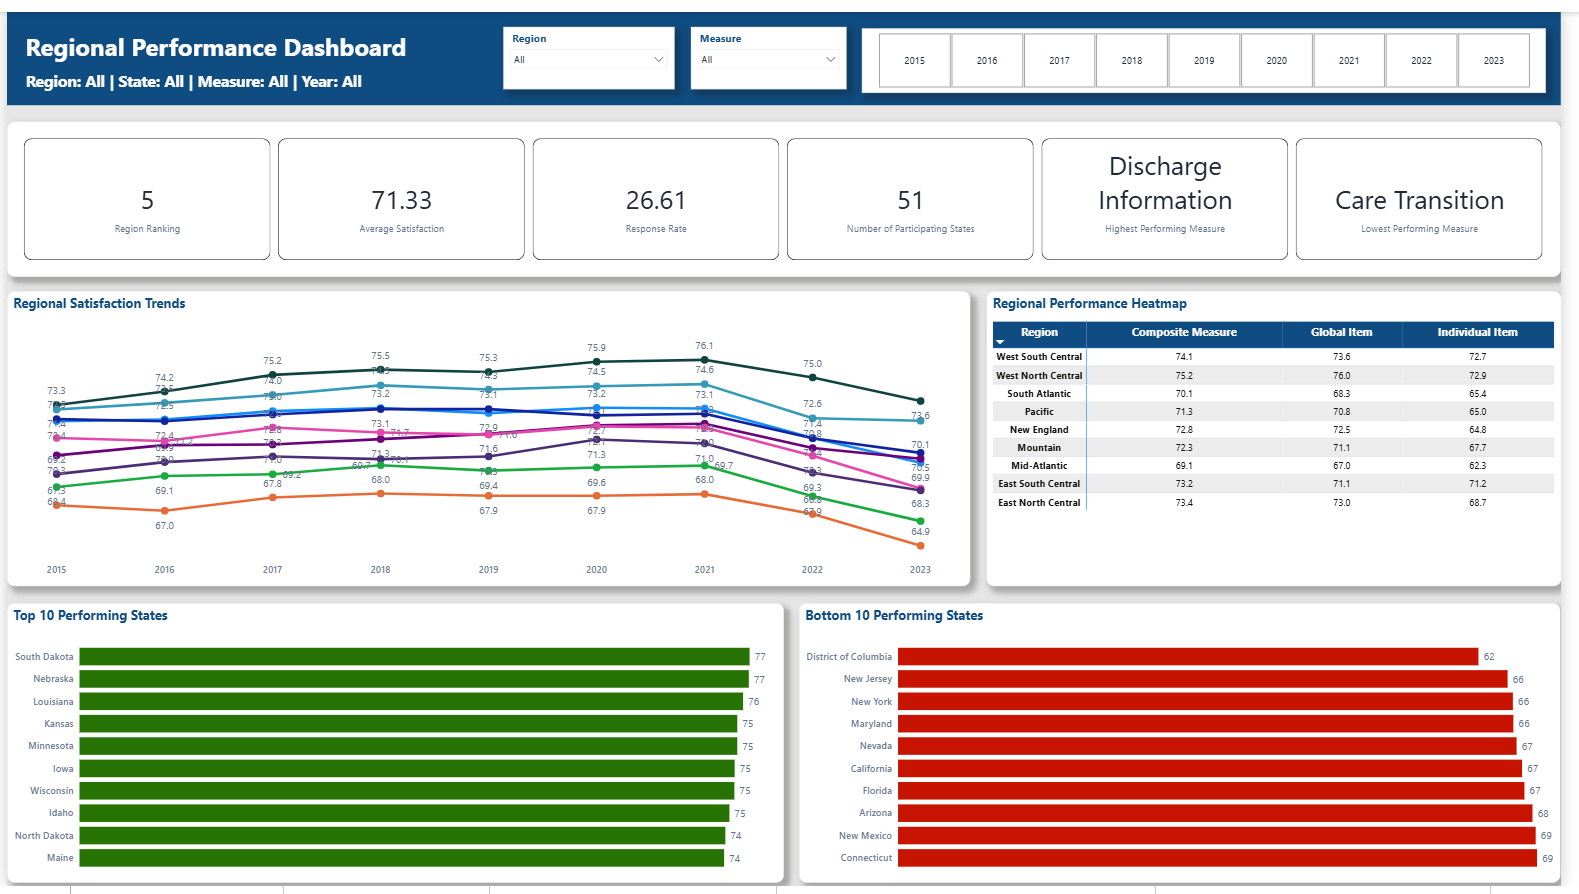

What the dashboard file says about the page in this screenshot:
{"tool":"powerbi","page":{"name":"Regional Performance Dashboard","canvas":[2400,1350],"ordinal":4},"visuals":[{"type":"shape","box":[0,0,2400,144],"z":0},{"type":"textbox","box":[24,24,672,72],"z":1000},{"type":"slicer","fields":{"Values":["states.Region"]},"box":[768,24,264,96],"z":2000},{"type":"slicer","fields":{"Values":["measure.Measure"]},"box":[1056,24,240,96],"z":3000},{"type":"slicer","title":"Release Period","fields":{"Values":["reports.Release Year"]},"box":[1320,26.2,1056,99],"z":4000},{"type":"cardVisual","fields":{"Data":["Key Measures.Region Ranking","Key Measures.Regional Satisfaction Score","Key Measures.Survey Response Rate","Key Measures.Number of Participating States","Key Measures.Highest Performing Measure","Key Measures.Lowest Performing Measure"]},"box":[0,168,2400,240],"z":5000},{"type":"lineChart","title":"Regional Satisfaction Trends","fields":{"Category":["reports.Release Year"],"Y":["Key Measures.Regional Satisfaction Score"],"Series":["states.Region"]},"box":[0,432,1488,456],"z":6000},{"type":"pivotTable","title":"Regional Performance Heatmap","fields":{"Rows":["states.Region"],"Columns":["measure.Type"],"Values":["Key Measures.Regional Satisfaction Score"]},"box":[1512,432,888,456],"z":7000},{"type":"clusteredBarChart","title":"Top 10 Performing States","fields":{"Category":["states.State Name"],"Y":["Key Measures.State Average Top-box %"]},"box":[0,912,1200,432],"z":8000},{"type":"clusteredBarChart","title":"Bottom 10 Performing States","fields":{"Category":["states.State Name"],"Y":["Key Measures.State Average Top-box %"]},"box":[1224,912,1176,432],"z":9000},{"type":"card","fields":{"Values":["Key Measures.Dashboard Filter Summary"]},"box":[0,72,576,72],"z":10000}]}

Visuals, with their boxes in screenshot pixels (x1, y1, x2, y2), scaled from the page's 2400x1350 canvas onto the 1579x894 screenshot:
shape: 0, 0, 1578, 95
textbox: 16, 16, 458, 64
slicer - states.Region: 505, 16, 679, 79
slicer - measure.Measure: 695, 16, 853, 79
"Release Period" slicer: 868, 17, 1563, 83
cardVisual - Key Measures.Region Ranking x Key Measures.Regional Satisfaction Score: 0, 111, 1578, 270
"Regional Satisfaction Trends" lineChart: 0, 286, 979, 588
"Regional Performance Heatmap" pivotTable: 995, 286, 1578, 588
"Top 10 Performing States" clusteredBarChart: 0, 604, 790, 890
"Bottom 10 Performing States" clusteredBarChart: 805, 604, 1578, 890
card - Key Measures.Dashboard Filter Summary: 0, 48, 379, 95
